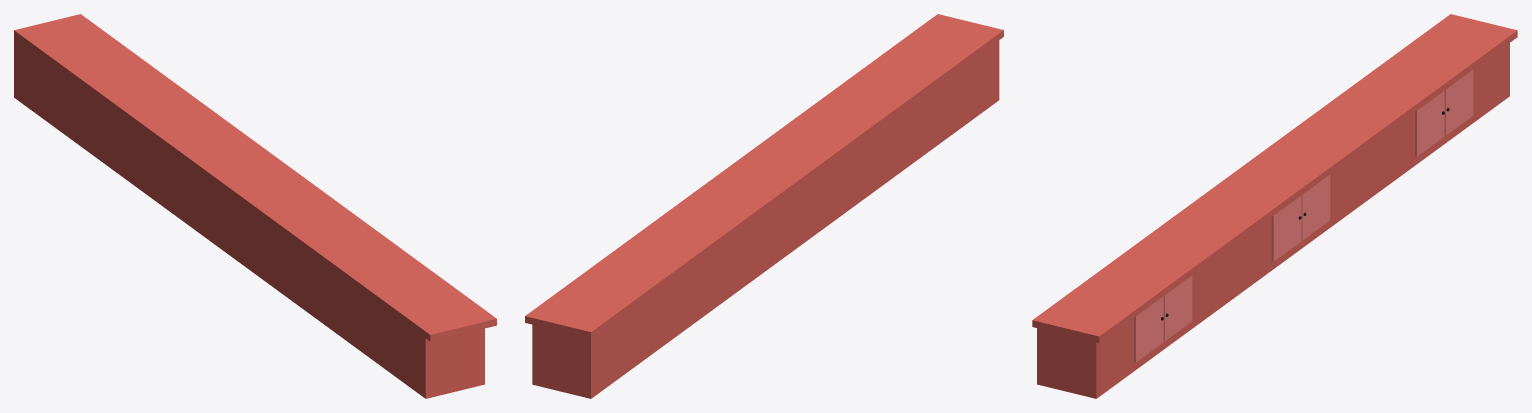
File: Bench1.fbx
The picture shows the model from 3 angles, left to right: view 1: azimuth 30°, elevation 25°; view 2: azimuth 150°, elevation 25°; view 3: azimuth 330°, elevation 25°; orthographic projection.
Visible parts, largest first — view 1: Cube; view 2: Cube; view 3: Cube, Cube.004, Cube.003, Cube.002, Cube.001, Cube.005, Cube.006.
Part boxes in pixels (x1=…): Cube: x1=14, y1=14, x2=496, y2=398; Cube: x1=525, y1=14, x2=1003, y2=398; Cube: x1=1032, y1=14, x2=1517, y2=398; Cube.004: x1=1271, y1=195, x2=1301, y2=261; Cube.003: x1=1301, y1=174, x2=1330, y2=240; Cube.002: x1=1163, y1=275, x2=1192, y2=341; Cube.001: x1=1134, y1=296, x2=1163, y2=362; Cube.005: x1=1415, y1=91, x2=1444, y2=156; Cube.006: x1=1444, y1=70, x2=1473, y2=135.
Bounding box in the file's own units: 342 × 330 × 3696.
